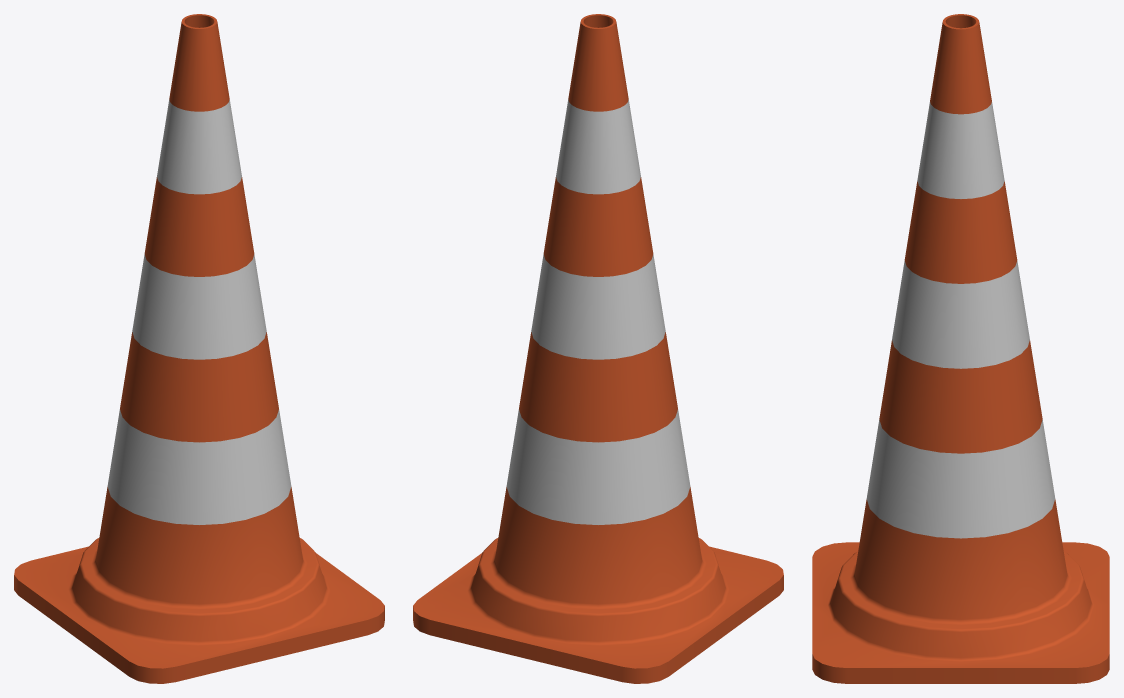
The model's file is traffic_cone.fbx.
The picture shows the model from 3 angles, left to right: view 1: azimuth 30°, elevation 25°; view 2: azimuth 150°, elevation 25°; view 3: azimuth 270°, elevation 25°; orthographic projection. The views are drawn at different scales.
Parts seen in each view (by area): view 1: traffic_cone; view 2: traffic_cone; view 3: traffic_cone.
Part boxes in pixels (x1,y1,x2,y2): traffic_cone: (14,14,384,683); traffic_cone: (413,14,783,683); traffic_cone: (812,14,1109,683).
Bounding box in the file's own units: 34 × 75.57 × 34.
